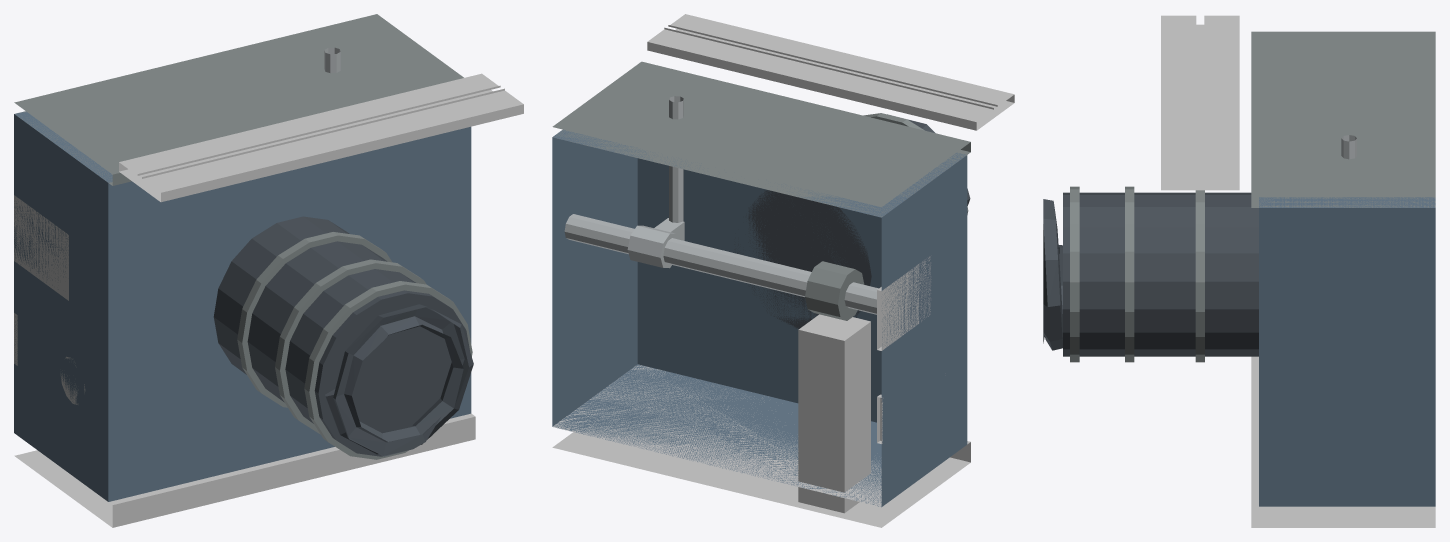
The model's file is cell_17.obj.
3 views of the same model, side by side, from view 1: azimuth 30°, elevation 25°; view 2: azimuth 150°, elevation 25°; view 3: azimuth 270°, elevation 25° (orthographic). The views are drawn at different scales.
Bounding box in the file's own units: 1 × 0.98 × 1.
